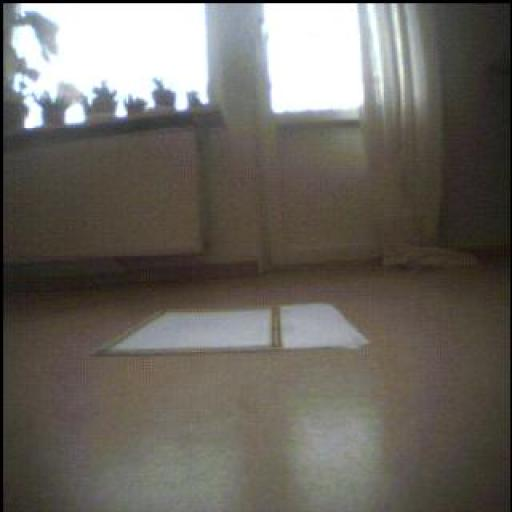Pad: (99, 305, 369, 356)
